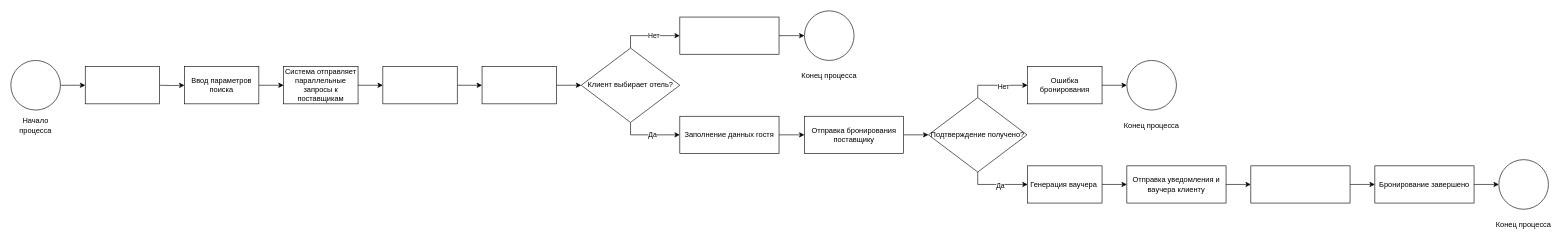
Image size: 1566x245. Some labels were removed from this diagram. Here are the shapes that lost their labels. From the top down, the box of each, then its label:
(679, 16, 779, 54): Поиск завершен без брони
(85, 66, 160, 104): Клиент/Агент начинает поиск
(382, 66, 457, 104): Агрегация и выбор лучшего предложения
(481, 66, 556, 104): Показ результатов с лучшей ценой
(1250, 165, 1350, 203): Обновление статуса в системе
